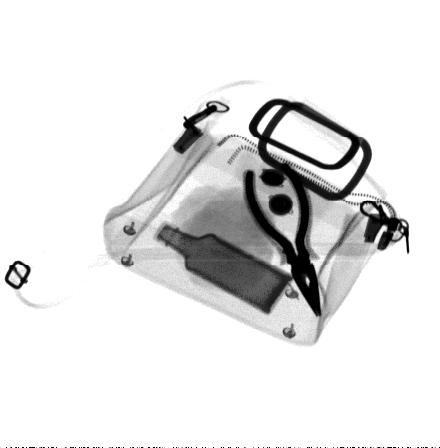Pliers: (242, 161, 323, 318)
